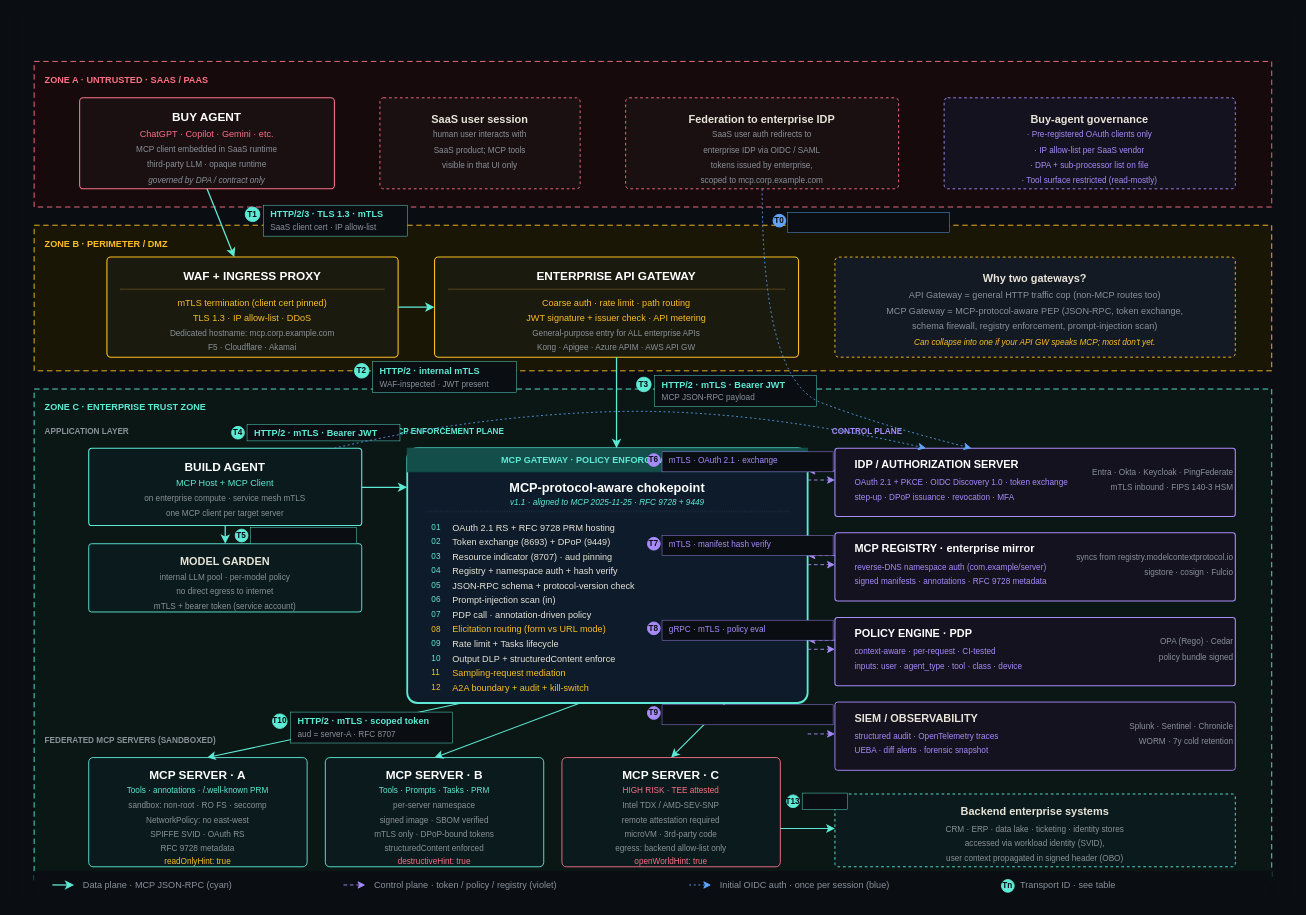
The diagram is 1306 pixels wide and 915 high, and some of its shapes have lost their labels. Here are the shapes that lost their labels. From the top down, the centre of each, then its label:
At (x=868, y=222): "OIDC · PKCE · redirect flow".
At (x=303, y=535): "gRPC · mTLS · SA token".
At (x=747, y=714): "OTel over mTLS · gRPC · audit".
At (x=824, y=800): "mTLS · SVID".
